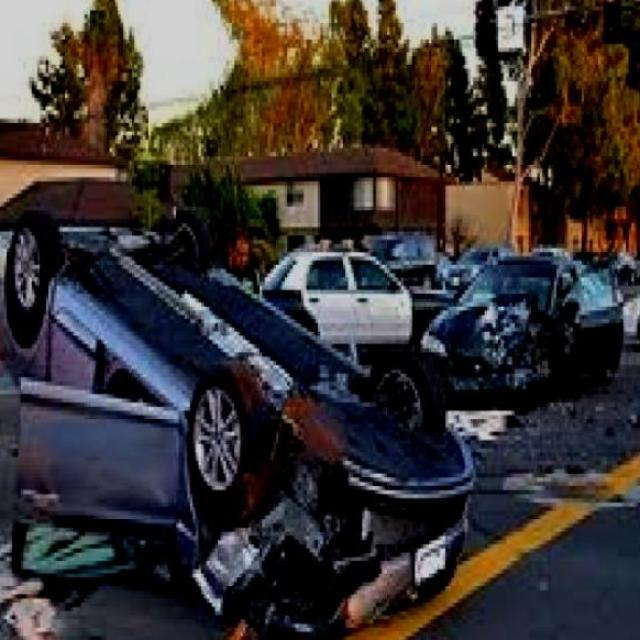accident: (0, 205, 489, 640), (426, 234, 626, 410)
